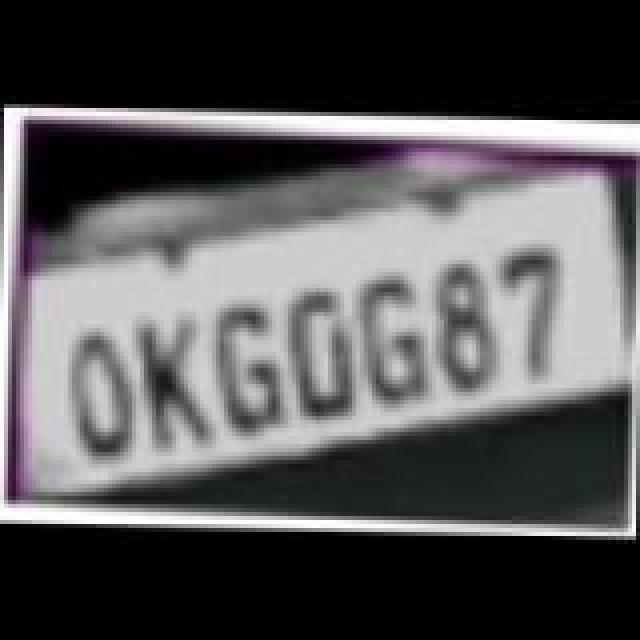7: (486, 244, 586, 380)
8: (418, 256, 518, 392)
D: (270, 286, 378, 422)
G: (198, 300, 306, 436), (338, 272, 446, 408)
K: (116, 314, 232, 454)
O: (46, 324, 150, 460)
